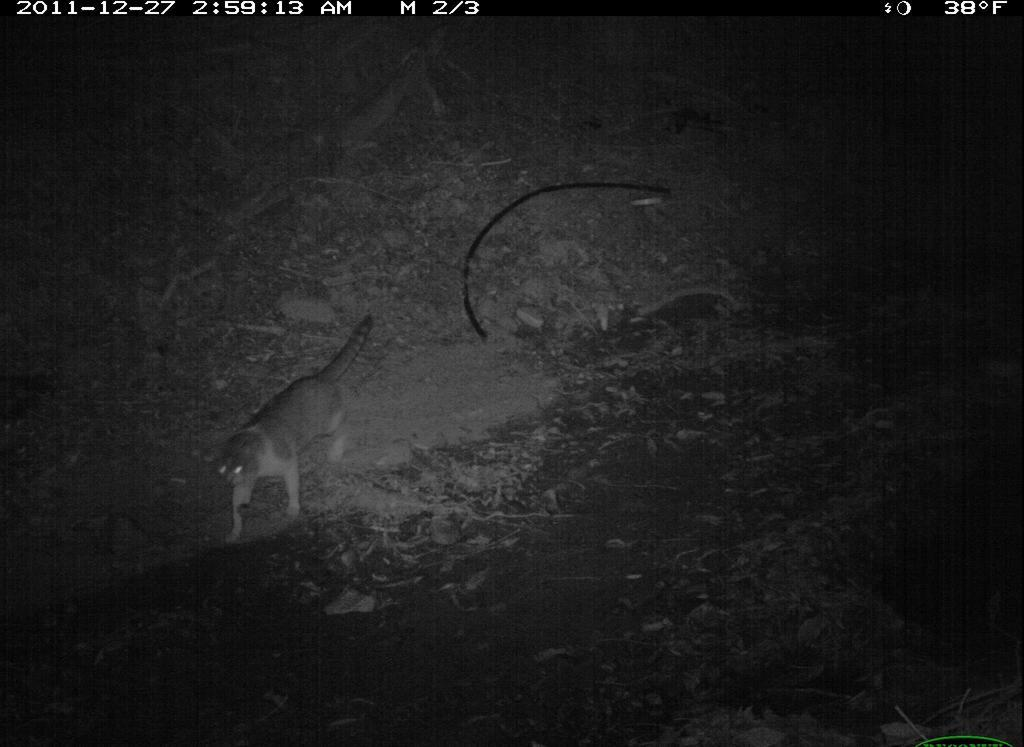cat: (208, 304, 387, 546)
